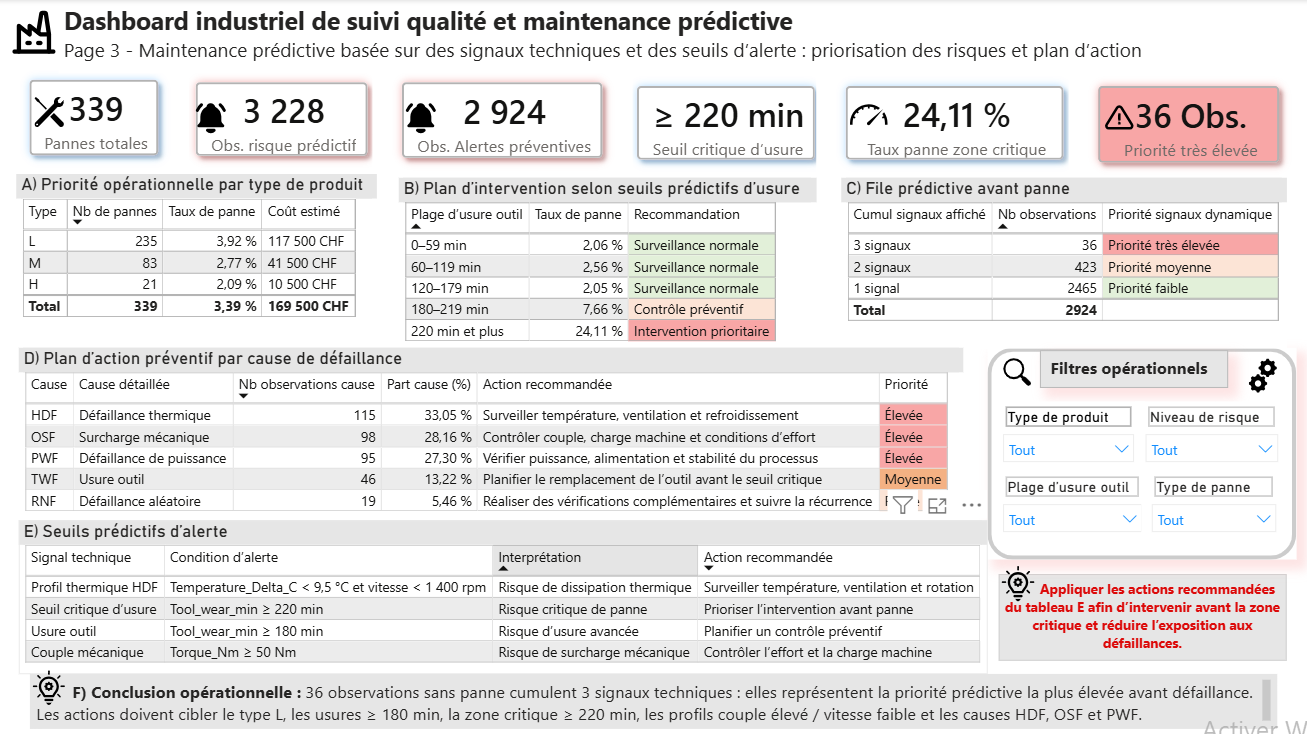

The dashboard page shown, as its layout file describes it:
{"tool":"powerbi","page":{"name":"Page 3 - Maintenance prédictive basée sur des signaux techniques et des seuils d’alerte : priorisation des risques et pl","canvas":[1280,720],"ordinal":2},"visuals":[{"type":"textbox","box":[977.5,562.5,281.2,85],"z":0},{"type":"shape","box":[966,341.3,302,207.3],"z":1000},{"type":"cardVisual","fields":{"Data":["machine_failures_clean.Observations risque prédictif KPI"]},"box":[163.1,53.1,226.9,130.8],"z":2000},{"type":"cardVisual","fields":{"Data":["causes_defaillance.Seuil critique d’usure KPI"]},"box":[593.8,56.2,232.5,130],"z":3000},{"type":"cardVisual","fields":{"Data":["causes_defaillance.Obs. Alertes préventives"]},"box":[364.4,52.2,254.4,132.2],"z":4000},{"type":"cardVisual","fields":{"Data":["Sum(machine_failures_clean.Machine_failure)"]},"box":[0,50,184.6,132.3],"z":5000},{"type":"cardVisual","fields":{"Data":["causes_defaillance.Taux panne zone critique KPI"]},"box":[798.8,56.2,271.2,130],"z":6000},{"type":"cardVisual","fields":{"Data":["causes_defaillance.3 signaux cumulés"]},"box":[1045,56.2,235,133.8],"z":7000},{"type":"textbox","box":[57.5,0,1080,72.5],"z":8000},{"type":"tableEx","title":"B) Plan d’intervention selon seuils prédictifs d’usure","fields":{"Values":["Plan intervention usure.Plage d’usure outil","Sum(Plan intervention usure.Taux de panne )","Plan intervention usure.Recommandation"]},"box":[390,174.3,408.6,185.7],"z":9000},{"type":"tableEx","title":"A) Priorité opérationnelle par type de produit","fields":{"Values":["machine_failures_clean.Type","Sum(machine_failures_clean.Machine_failure)","machine_failures_clean.Taux global de panne","causes_defaillance.Coût estimé pannes KPI"]},"box":[15.7,171.4,352.9,157.1],"z":10000},{"type":"tableEx","title":"C) File prédictive avant panne","fields":{"Values":["machine_failures_clean.Cumul signaux affiché","causes_defaillance.Nb observations prédictives sans panne","machine_failures_clean.Priorité signaux dynamique"]},"box":[822.9,174.3,435.7,167.1],"z":11000},{"type":"tableEx","title":"D) Plan d’action préventif par cause de défaillance","fields":{"Values":["Actions_preventives_cause.Cause","Actions_preventives_cause.Cause détaillée","Actions_preventives_cause.Nb observations cause","Actions_preventives_cause.Part cause (%)","Actions_preventives_cause.Action recommandée","Actions_preventives_cause.Priorité"]},"box":[18.6,341.4,924.3,168.6],"z":12000},{"type":"tableEx","title":"E) Seuils prédictifs d’alerte","fields":{"Values":["Seuils_predictifs_alerte.Signal technique","Seuils_predictifs_alerte.Condition d’alerte","Seuils_predictifs_alerte.Interprétation","Seuils_predictifs_alerte.Action recommandée"]},"box":[18.8,510,947.5,150],"z":13000},{"type":"textbox","box":[28.8,660,1220,53.8],"z":14000},{"type":"textbox","box":[1018,344,184,37],"z":15000},{"type":"slicer","fields":{"Values":["machine_failures_clean.Type"]},"box":[970.9,393.9,148.7,64.3],"z":16000},{"type":"slicer","fields":{"Values":["machine_failures_clean.niveau_risque"]},"box":[1110,393.3,150,64.7],"z":17000},{"type":"slicer","fields":{"Values":["machine_failures_clean.plage_usure"]},"box":[970.9,462.6,156.5,61.3],"z":18000},{"type":"image","box":[390,98.8,43.8,35],"z":19000},{"type":"image","box":[185,98.8,43.8,35],"z":20000},{"type":"image","box":[28.8,92.5,37.5,35],"z":21000},{"type":"image","box":[1080,95,30,42.5],"z":22000},{"type":"image","box":[828.8,92.5,41.2,40],"z":23000},{"type":"image","box":[0,7.5,66.2,50],"z":24000},{"type":"image","box":[28.8,647.5,37.5,52.5],"z":25000},{"type":"image","box":[977.5,548.8,38.8,46.2],"z":26000},{"type":"image","box":[1210,348.8,50,40],"z":27000},{"type":"image","box":[975,348.8,41.2,32.5],"z":28000},{"type":"slicer","fields":{"Values":["machine_failures_clean.Cause_de_defaillance_filtre"]},"box":[1117,462.6,142.2,71.3],"z":29001}]}

Visuals, with their boxes on the page's 1280x720 design canvas (x1, y1, x2, y2). These are canvas units, not pixel positions in the 1307x734 screenshot, which may show the page scaled, cropped or inside an application window:
textbox: 978 562 1259 648
shape: 966 341 1268 549
cardVisual - machine_failures_clean.Observations risque prédictif KPI: 163 53 390 184
cardVisual - causes_defaillance.Seuil critique d’usure KPI: 594 56 826 186
cardVisual - causes_defaillance.Obs. Alertes préventives: 364 52 619 184
cardVisual - Sum(machine_failures_clean.Machine_failure): 0 50 185 182
cardVisual - causes_defaillance.Taux panne zone critique KPI: 799 56 1070 186
cardVisual - causes_defaillance.3 signaux cumulés: 1045 56 1280 190
textbox: 58 0 1138 72
"B) Plan d’intervention selon seuils prédictifs d’usure" tableEx: 390 174 799 360
"A) Priorité opérationnelle par type de produit" tableEx: 16 171 369 328
"C) File prédictive avant panne" tableEx: 823 174 1259 341
"D) Plan d’action préventif par cause de défaillance" tableEx: 19 341 943 510
"E) Seuils prédictifs d’alerte" tableEx: 19 510 966 660
textbox: 29 660 1249 714
textbox: 1018 344 1202 381
slicer - machine_failures_clean.Type: 971 394 1120 458
slicer - machine_failures_clean.niveau_risque: 1110 393 1260 458
slicer - machine_failures_clean.plage_usure: 971 463 1127 524
image: 390 99 434 134
image: 185 99 229 134
image: 29 92 66 128
image: 1080 95 1110 138
image: 829 92 870 132
image: 0 8 66 58
image: 29 648 66 700
image: 978 549 1016 595
image: 1210 349 1260 389
image: 975 349 1016 381
slicer - machine_failures_clean.Cause_de_defaillance_filtre: 1117 463 1259 534
